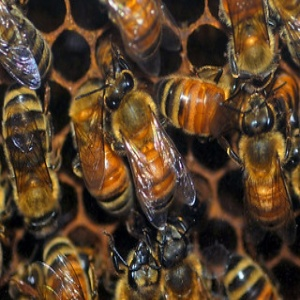bee: (103, 70, 196, 226), (2, 84, 60, 241), (238, 93, 295, 252), (110, 1, 181, 65), (1, 1, 54, 80), (156, 77, 223, 139), (110, 232, 162, 300)
